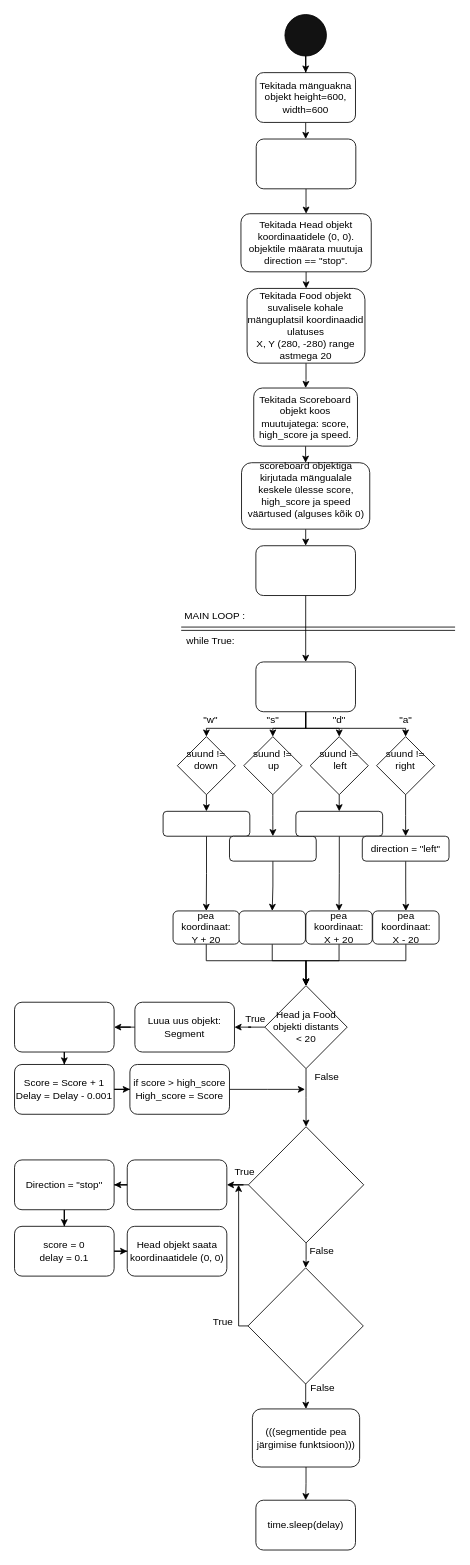
Image size: 470x1565. Some labels were removed from this diagram. The shapes that lost their labels are listed below. From the top down, each one's centre as x and y in pixels, then its label:
(x=305, y=163): Määrata Delay muutuja Time.sleep() funktsiooni jaoks. Delay = 0.1
(x=305, y=570): Luua tühi list uute ussi keha segmentide jaoks: Snake_body
(x=305, y=686): Kuulata kasutaja sisendeid:
(x=206, y=823): direction = "up"
(x=339, y=823): direction = "right"
(x=272, y=848): direction = "down"
(x=271, y=927): pea koordinaat: Y - 20
(x=64, y=1026): Lisada Segment Snake_body listi.
(x=176, y=1184): Tühjendada Snake_body list
(x=306, y=1184): Pea objekti üks koordinaatidest ületab mängualal koordinaate X,Y(280, -280)
(x=305, y=1325): Pea objekti ja ussi segmendi distants < 20
